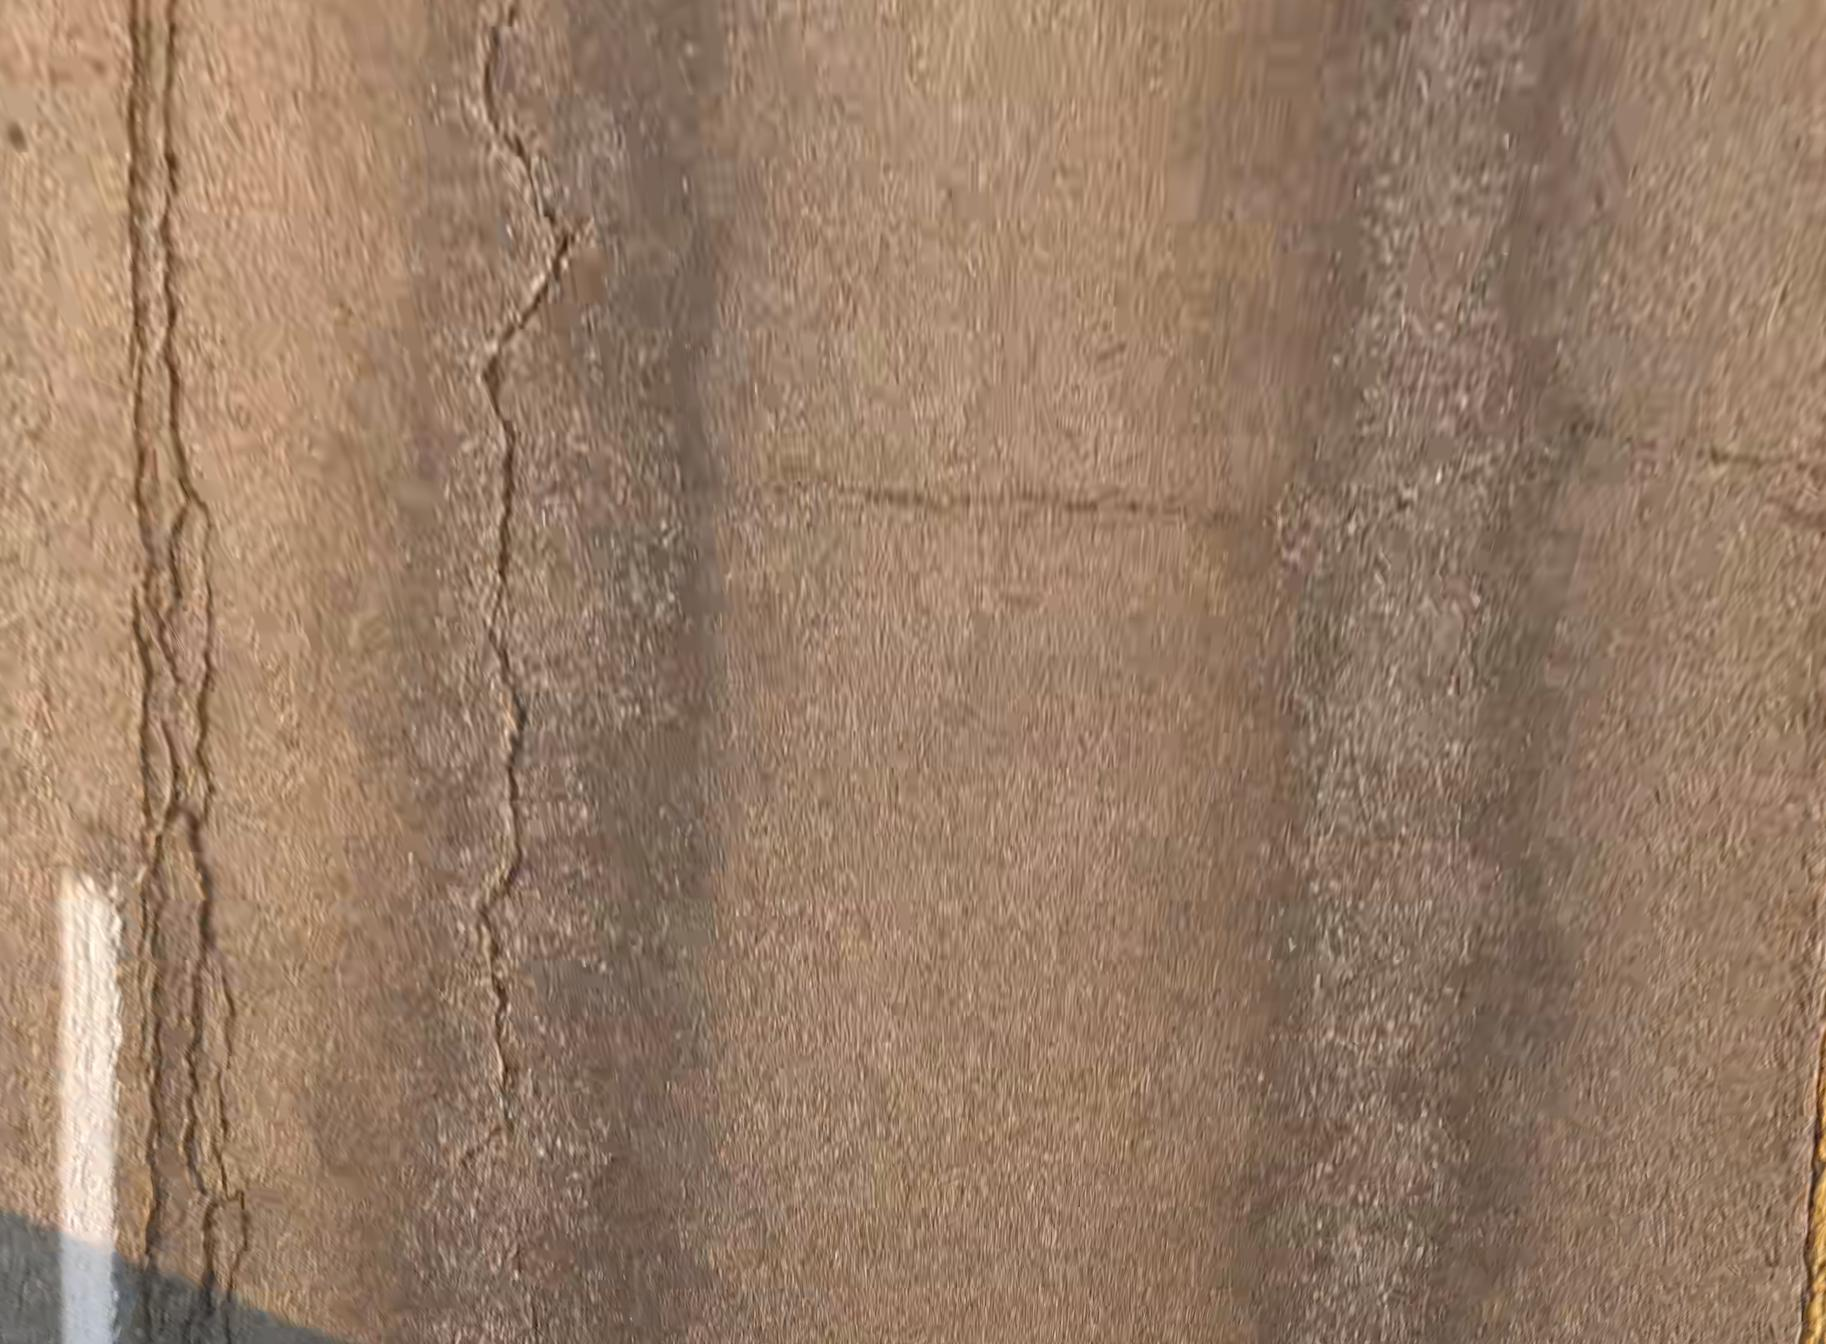pothole_patch_good: (1250, 0, 1608, 1344)
pothole_patch_poor: (394, 0, 730, 1344)
